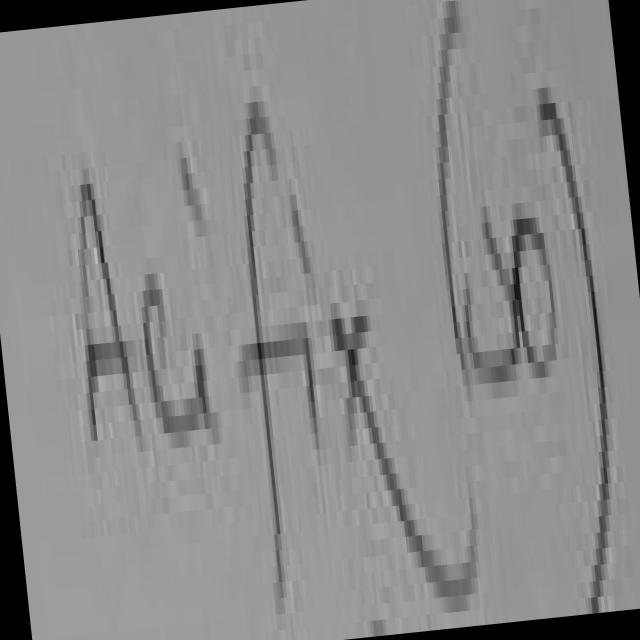0: (518, 217, 557, 377)
A: (80, 183, 142, 451)
c: (143, 273, 197, 447)
f: (243, 101, 296, 590)
i: (193, 314, 216, 451), (300, 325, 321, 466), (179, 142, 206, 236), (289, 185, 309, 267)
x: (332, 315, 479, 612)
